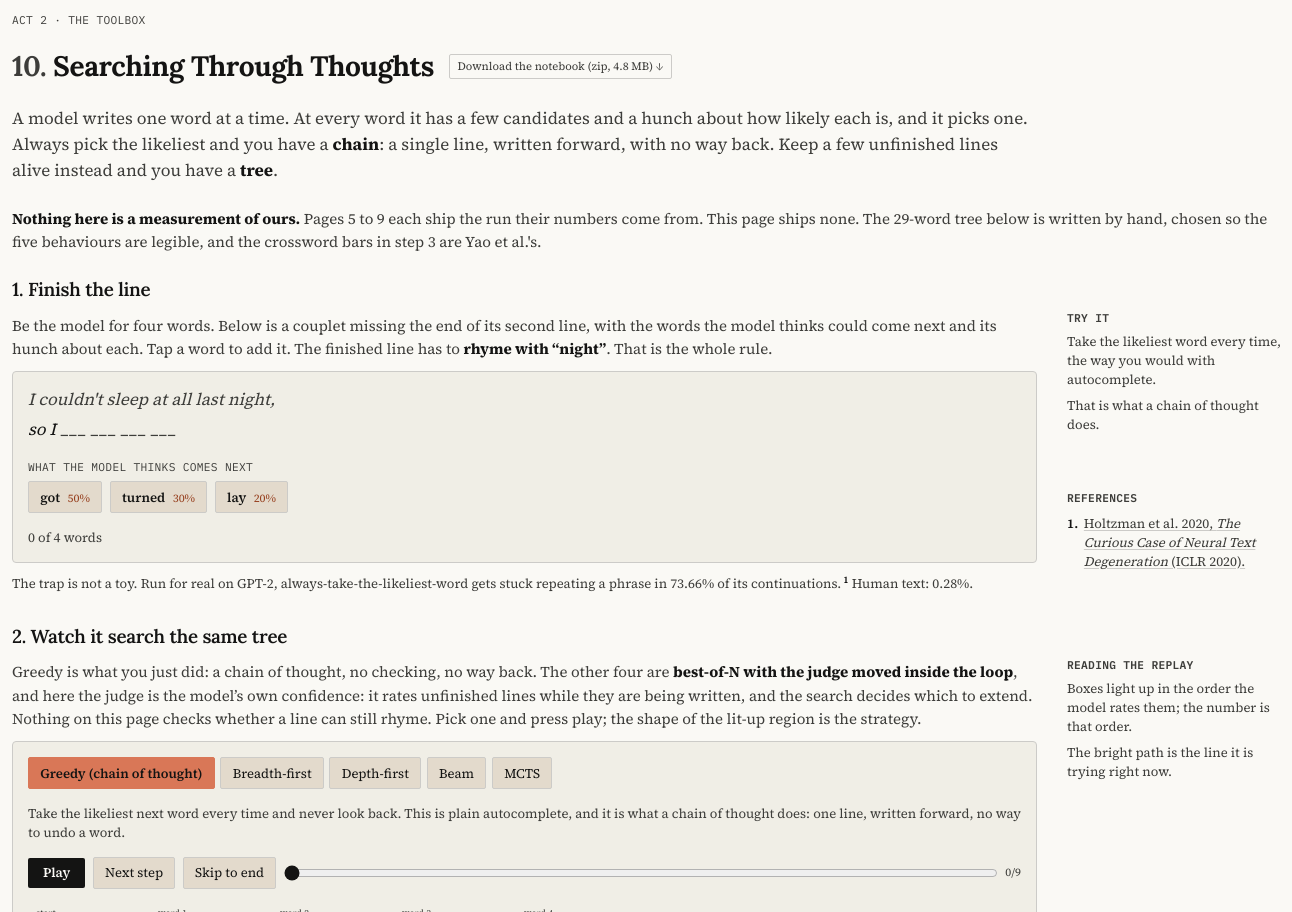
Scenario: Page 10 — step 1, the reader writes the line › taking the likeliest word every time gives a line that does not rhyme
Click the button "got 50%" at (65, 497), box [28,481,102,513]
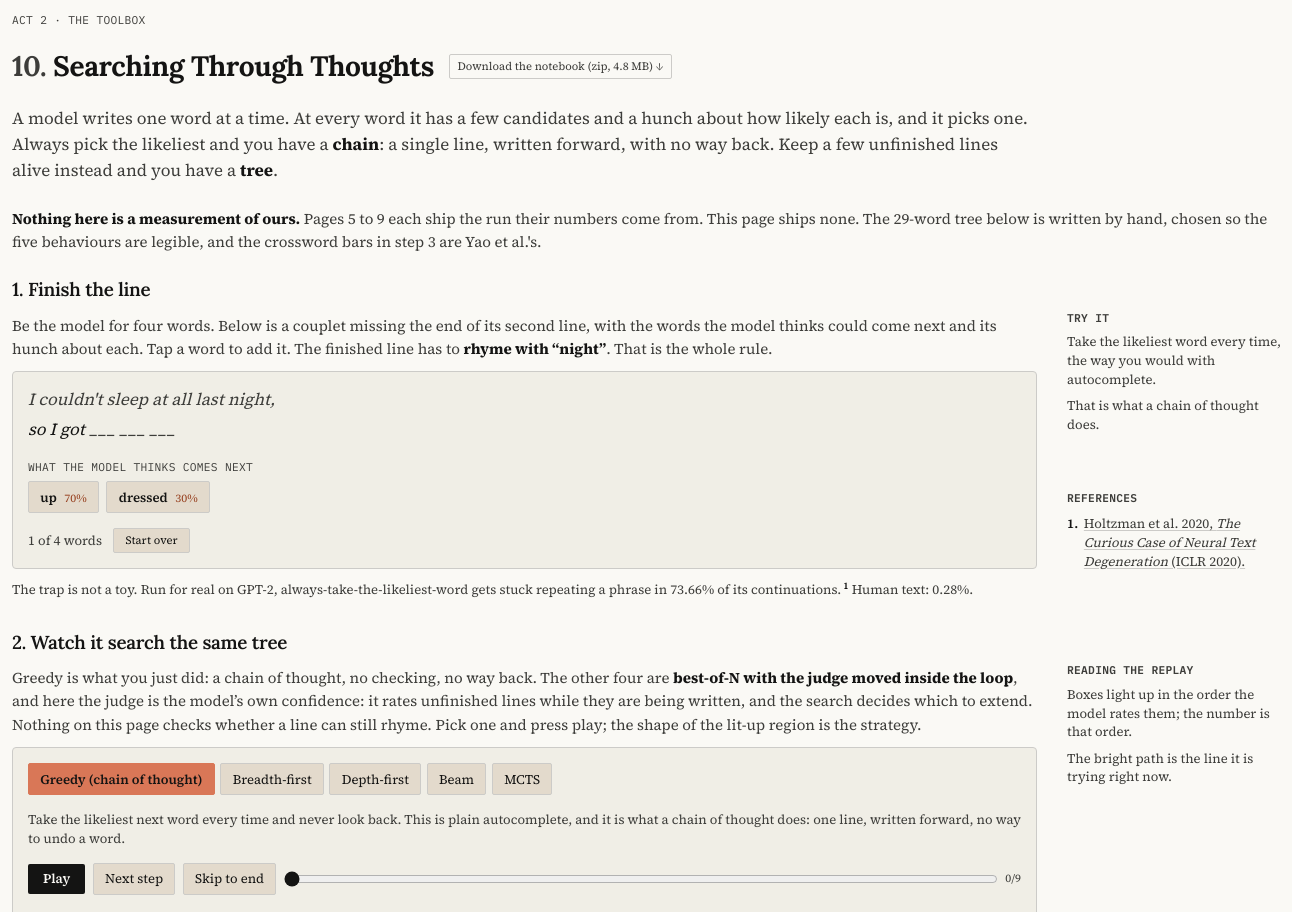
Click the button "up 70%" at (64, 497), box [28,481,99,513]
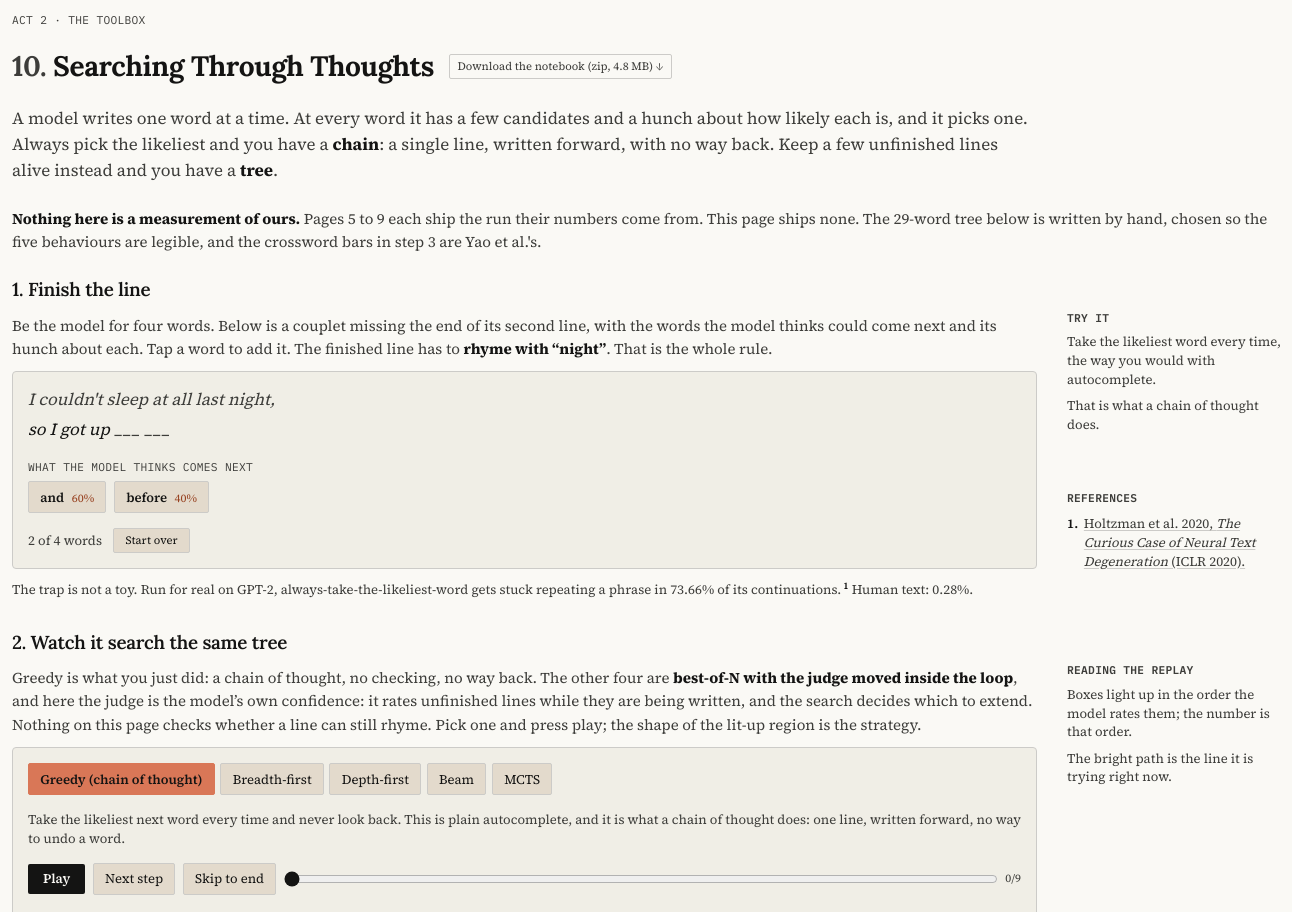
Click the button "and 60%" at (67, 497), box [28,481,106,513]
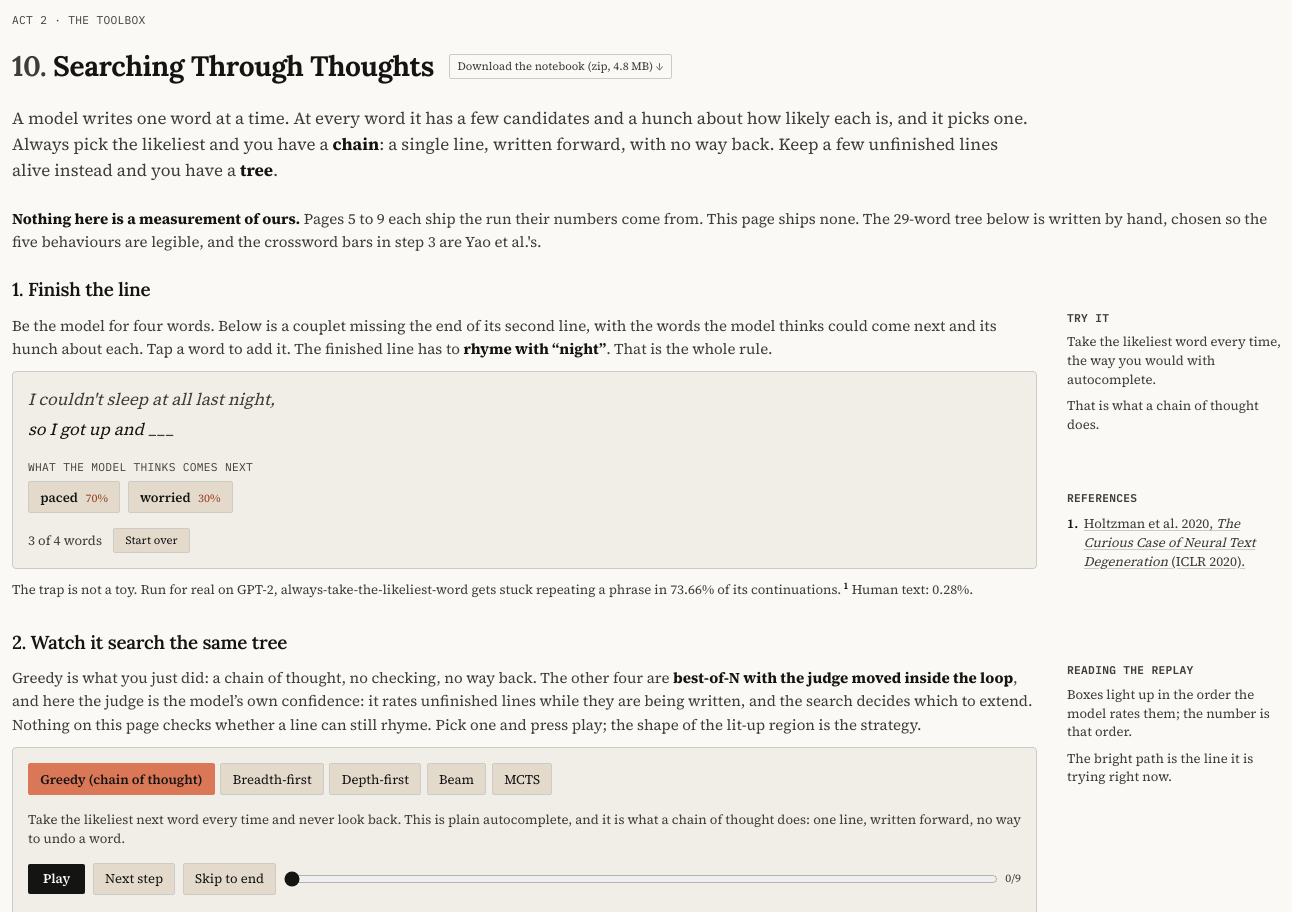
Click the button "paced 70%" at (74, 497), box [28,481,120,513]
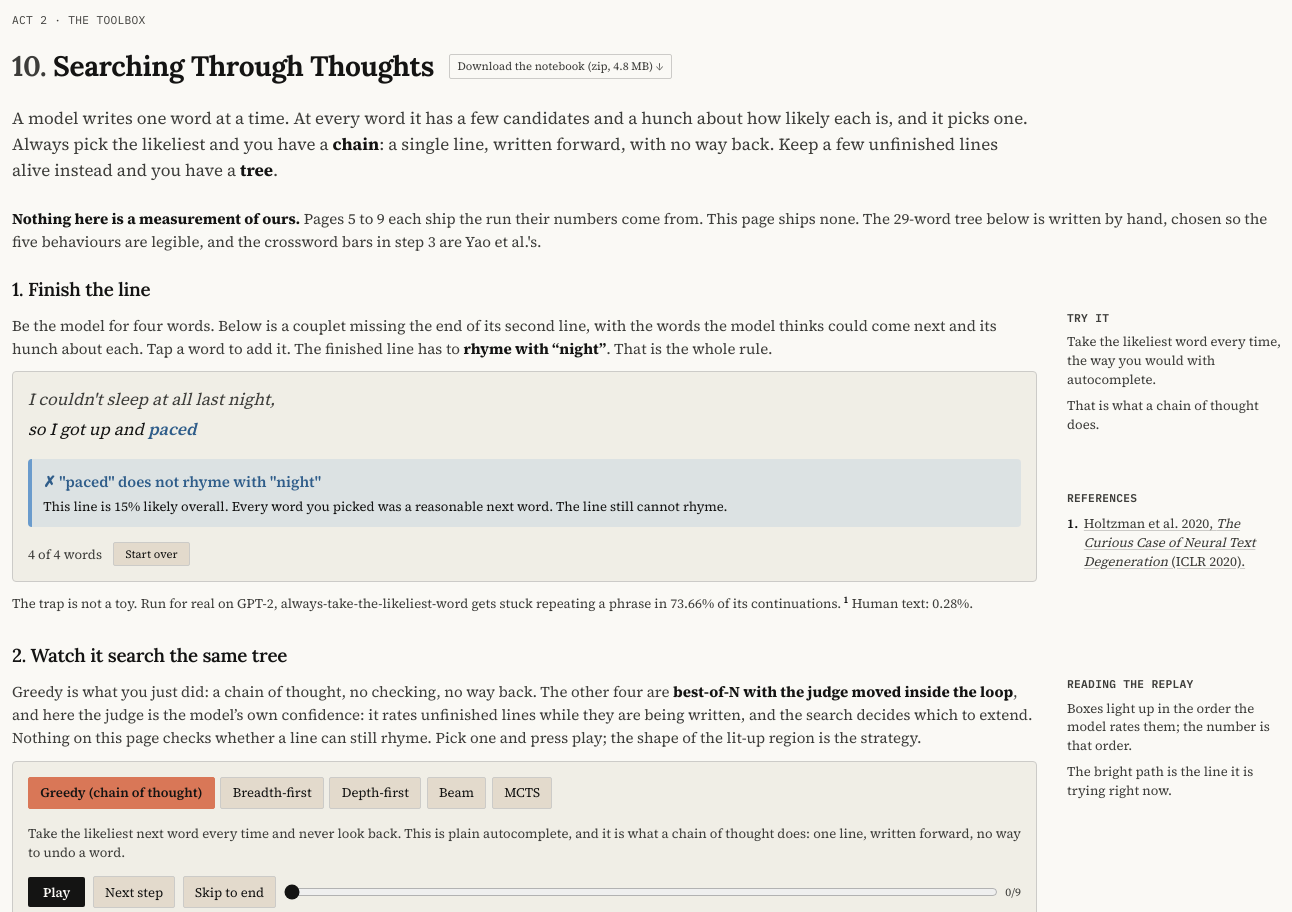
Now the text "✗ \"paced\" does not rhyme with \"night\"" is shown, box [43,471,321,492]
Now the text "The line still cannot rhyme." is shown, box [232,497,728,515]
